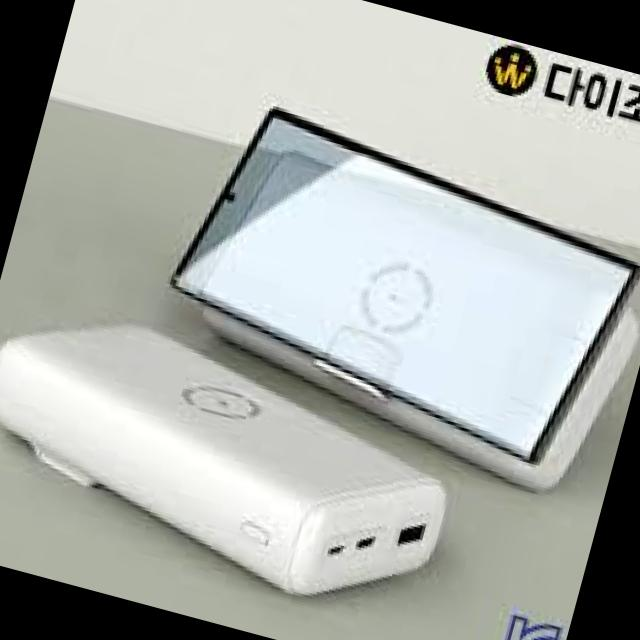portable-charger: (175, 136, 640, 511), (0, 286, 480, 637)
